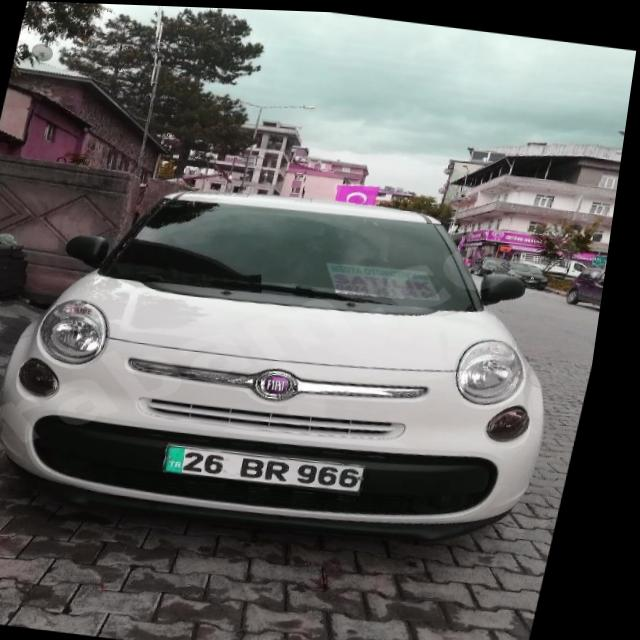license_plate: (173, 440, 381, 492)
